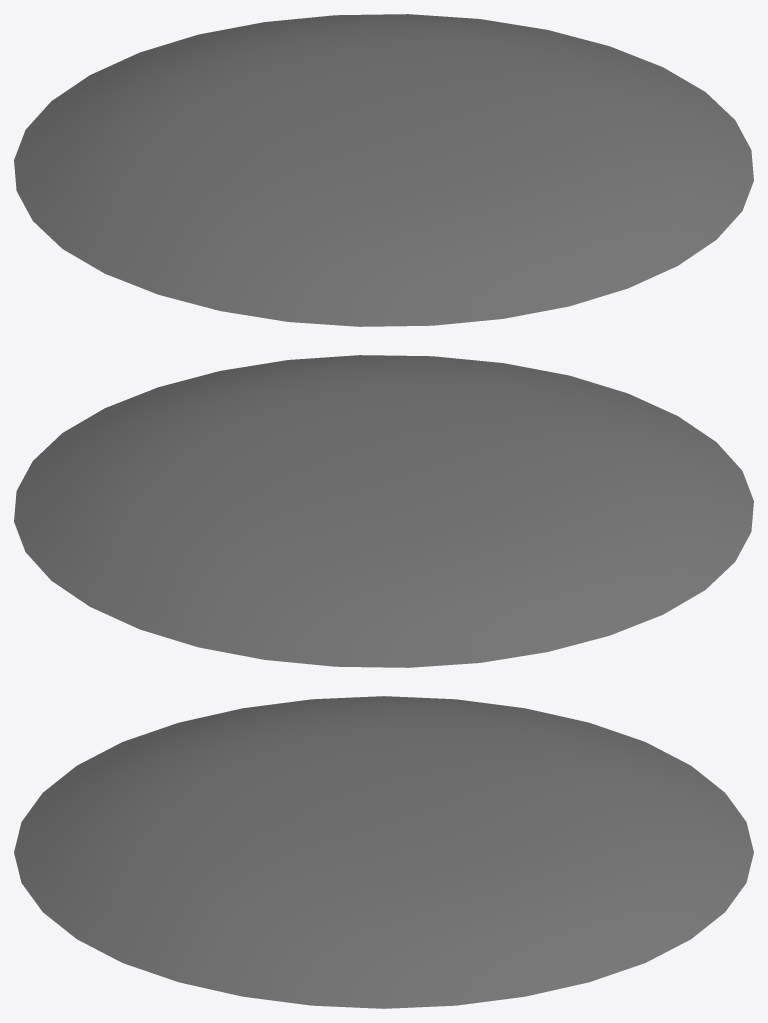
File: WorldTerrain_001.fbx
3 renders of one model, top to bottom at view 1: azimuth 30°, elevation 25°; view 2: azimuth 150°, elevation 25°; view 3: azimuth 270°, elevation 25°, orthographic.
Visible parts, largest first — view 1: WorldTerrain_001; view 2: WorldTerrain_001; view 3: WorldTerrain_001.
Boxes of the visible parts, x1=… form: WorldTerrain_001: x1=14, y1=14, x2=753, y2=326; WorldTerrain_001: x1=14, y1=355, x2=753, y2=667; WorldTerrain_001: x1=14, y1=696, x2=753, y2=1008.
Bounding box in the file's own units: 1836 × 130 × 1836.
